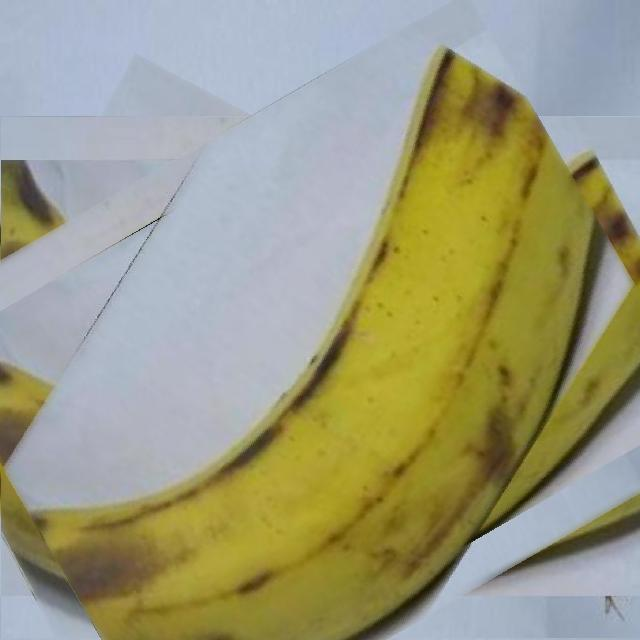Muito Madura: (0, 53, 640, 640)
